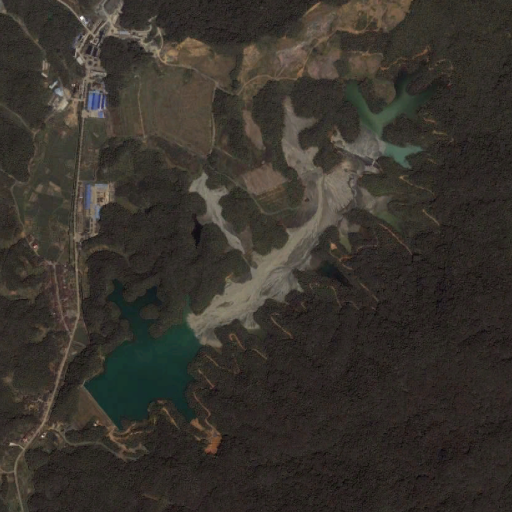tp: (65, 69, 430, 445)
